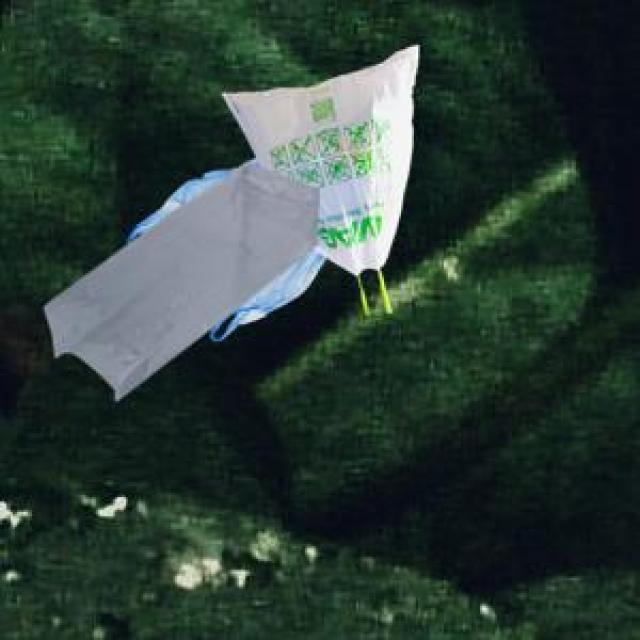plastic: (12, 46, 481, 401)
